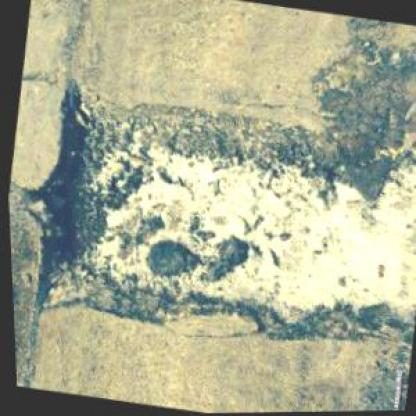pothole: (3, 60, 414, 373)
